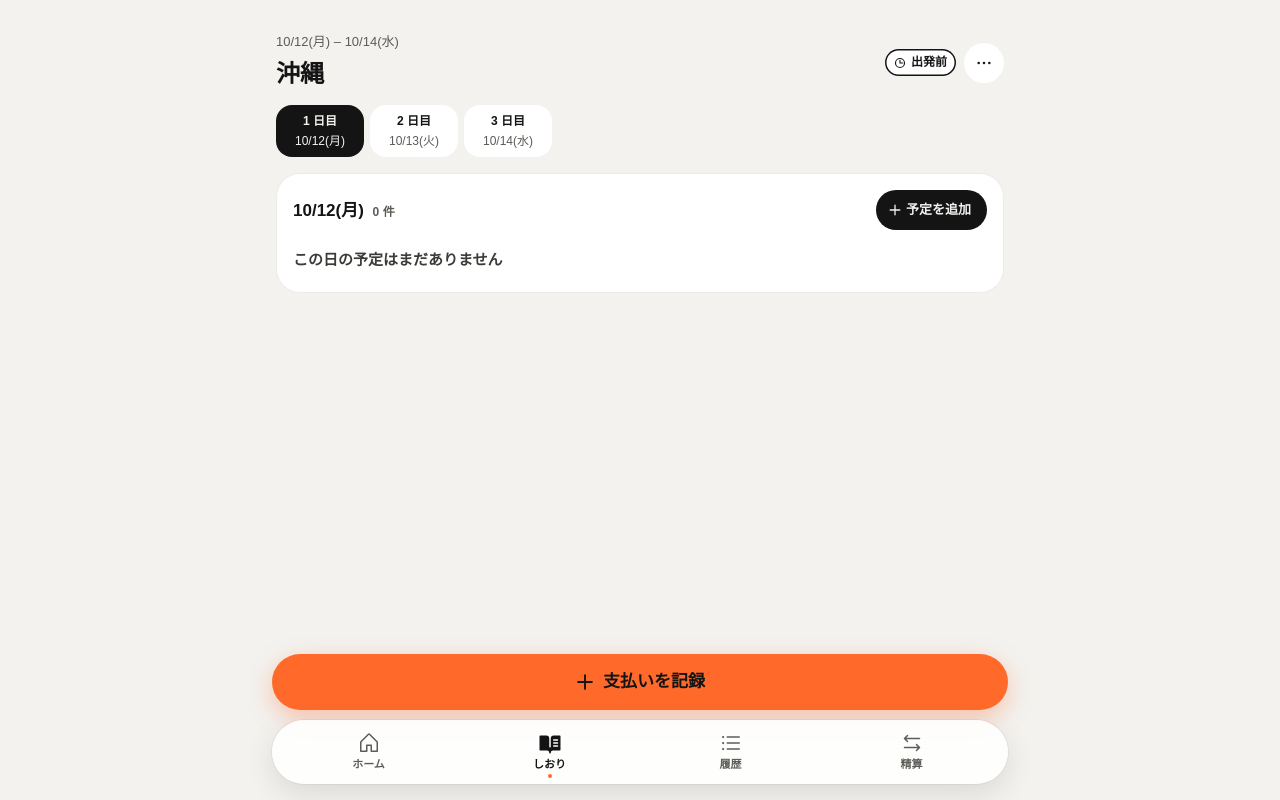
ItineraryScreen (/trips/{id}/itinerary) › W-23: 期間が 422 でも名前は保存済みと出し、期間の欄にエラー
Expected: the heading "沖縄" is shown, [276,60,324,87]
Click the button named "旅行のメニュー".
click(984, 63)  # box [964,43,1004,83]
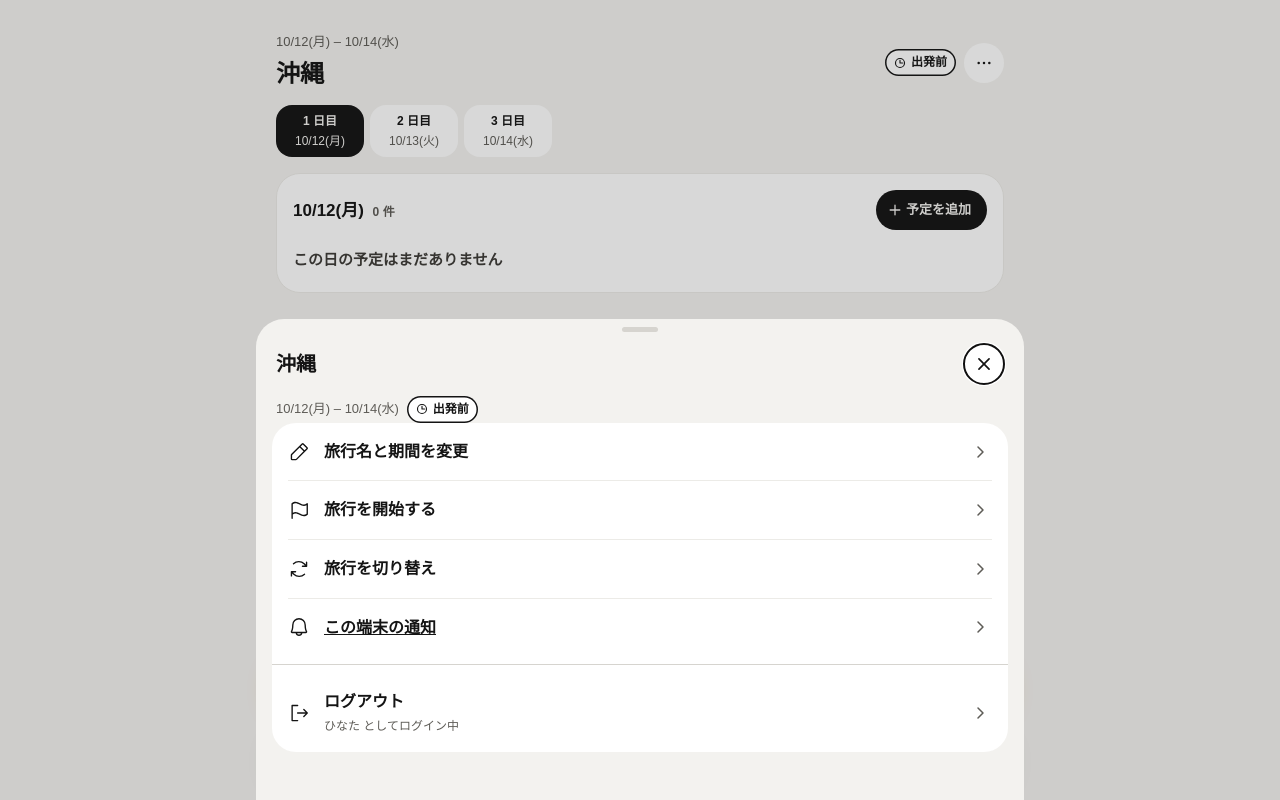
Click the button "旅行名と期間を変更".
click(396, 451)  # box [288,423,992,480]
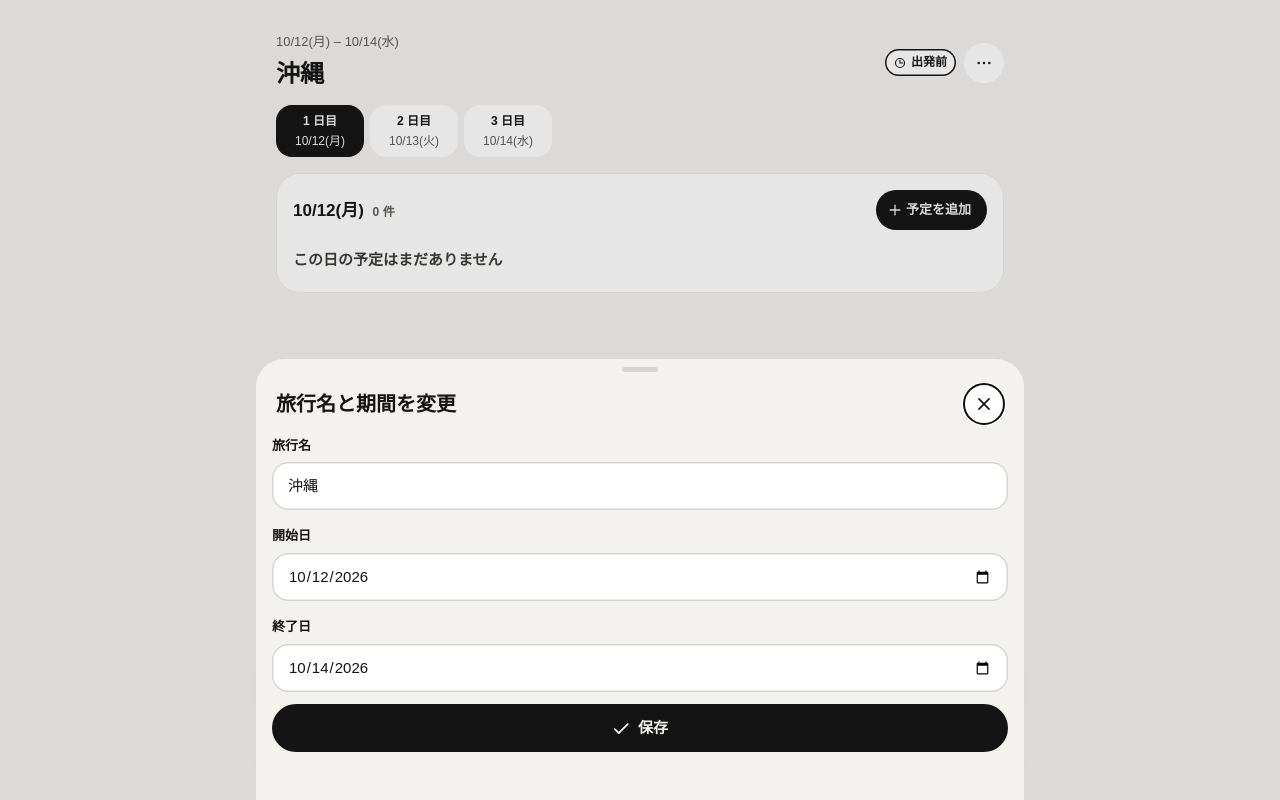
Replace the text in the field labelled "旅行名" with "石垣島" at (640, 486), box [272,462,1008,510]
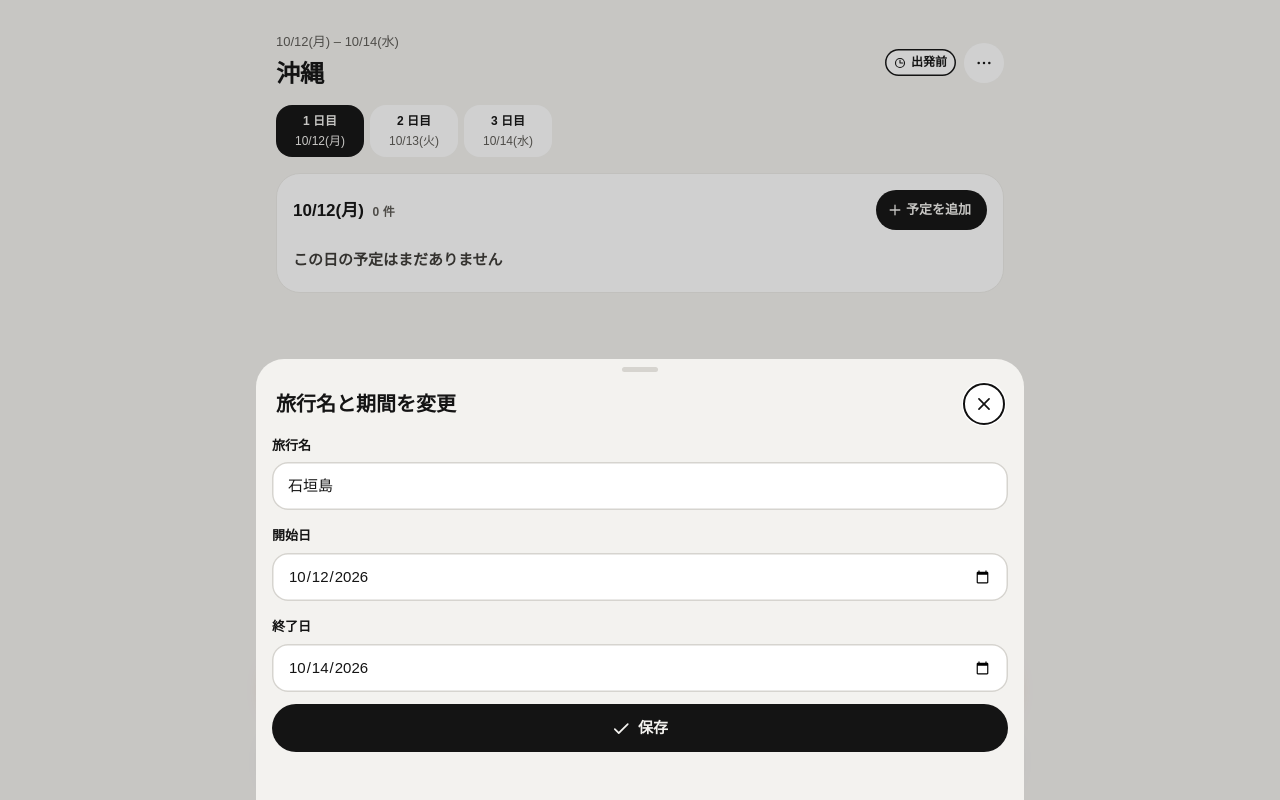
Type "2026-10-01" into the date field labelled "開始日".
click(640, 577); type("2026-10-01")  # box [272,553,1008,601]
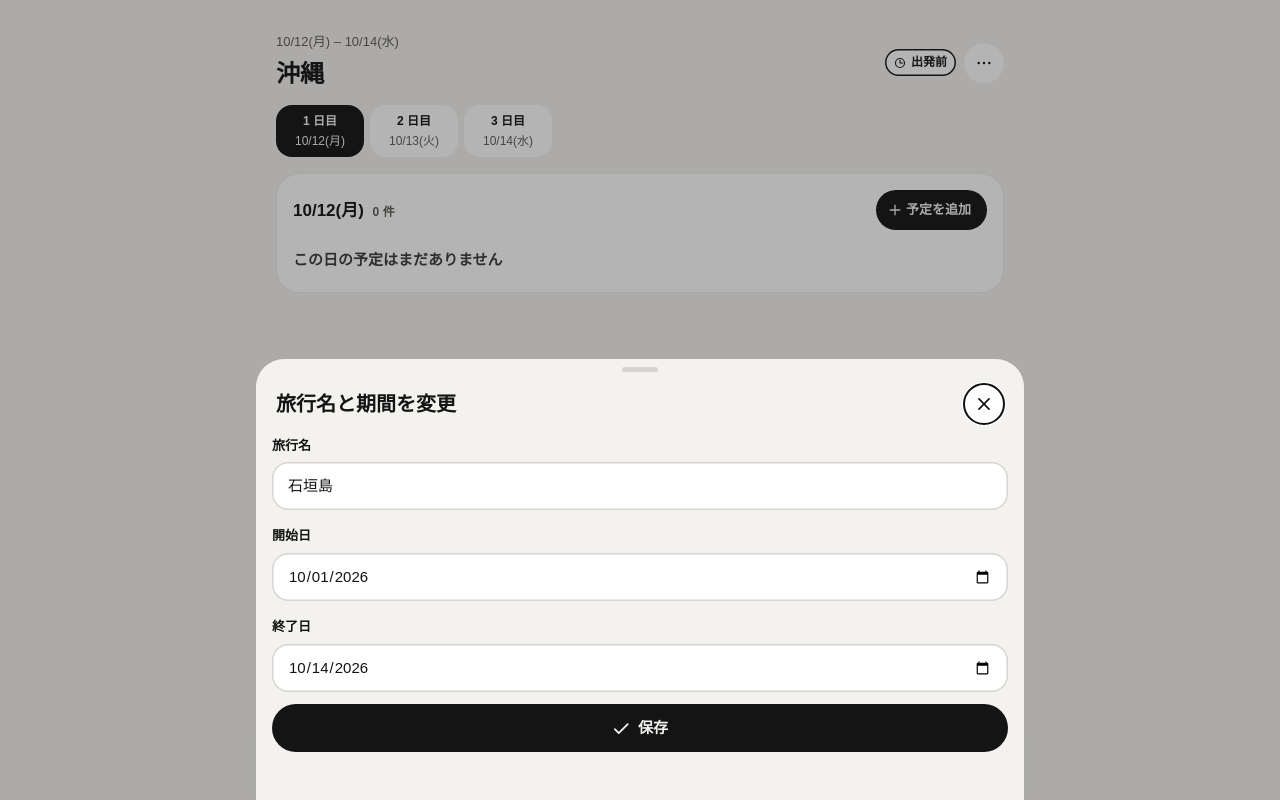
Expected: the button "保存" is enabled
Click the button "保存".
click(640, 728)  # box [272,704,1008,752]
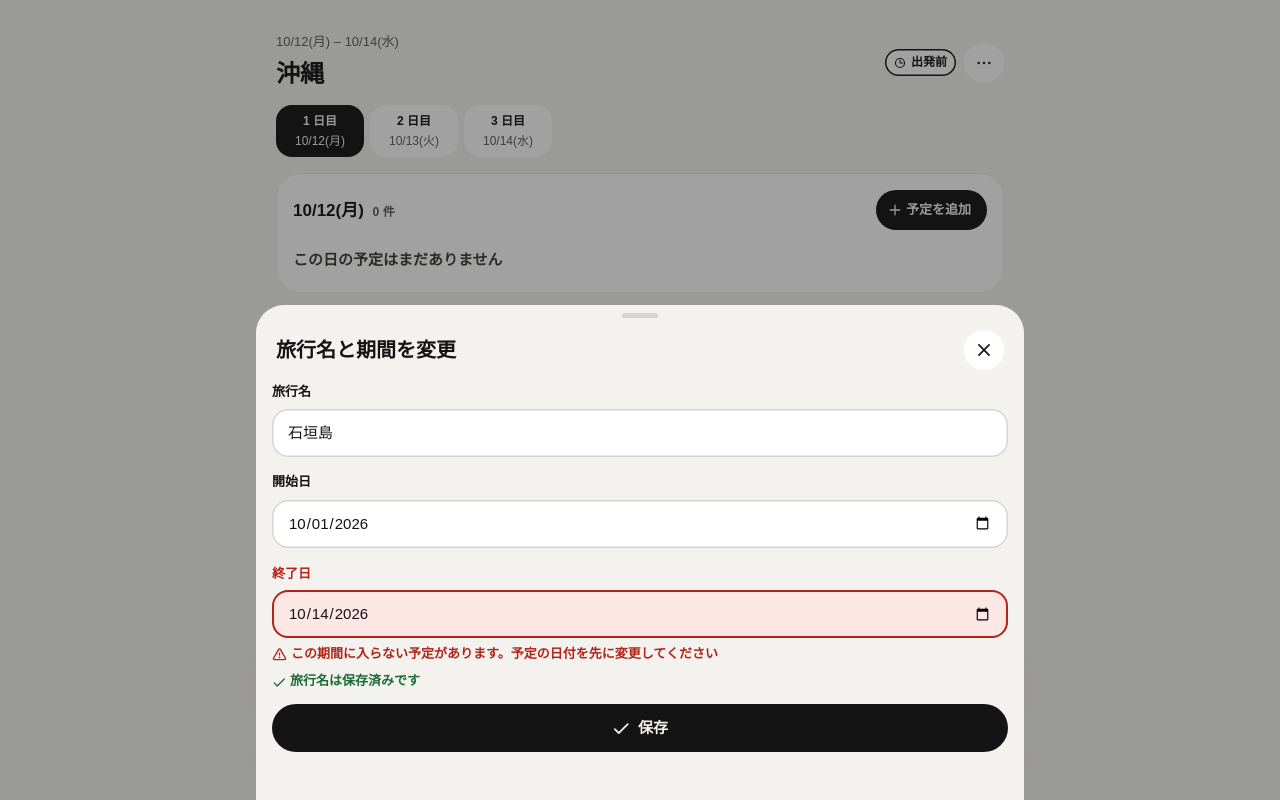
Expected: the heading "旅行名と期間を変更" is shown, [276,334,456,366]
Expected: the text "旅行名は保存済みです" is shown, [272,673,420,689]
Expected: the text "この期間に入らない予定があります。予定の日付を先に変更してください" is shown, [272,646,718,662]
